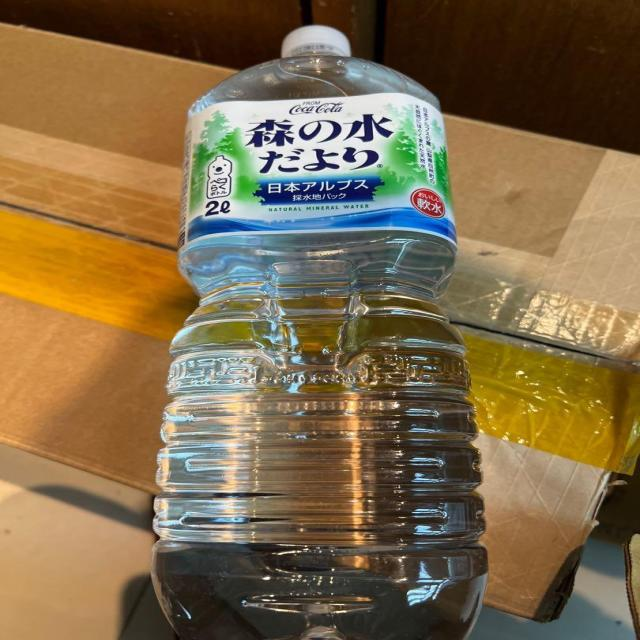plastic: (153, 26, 491, 640)
